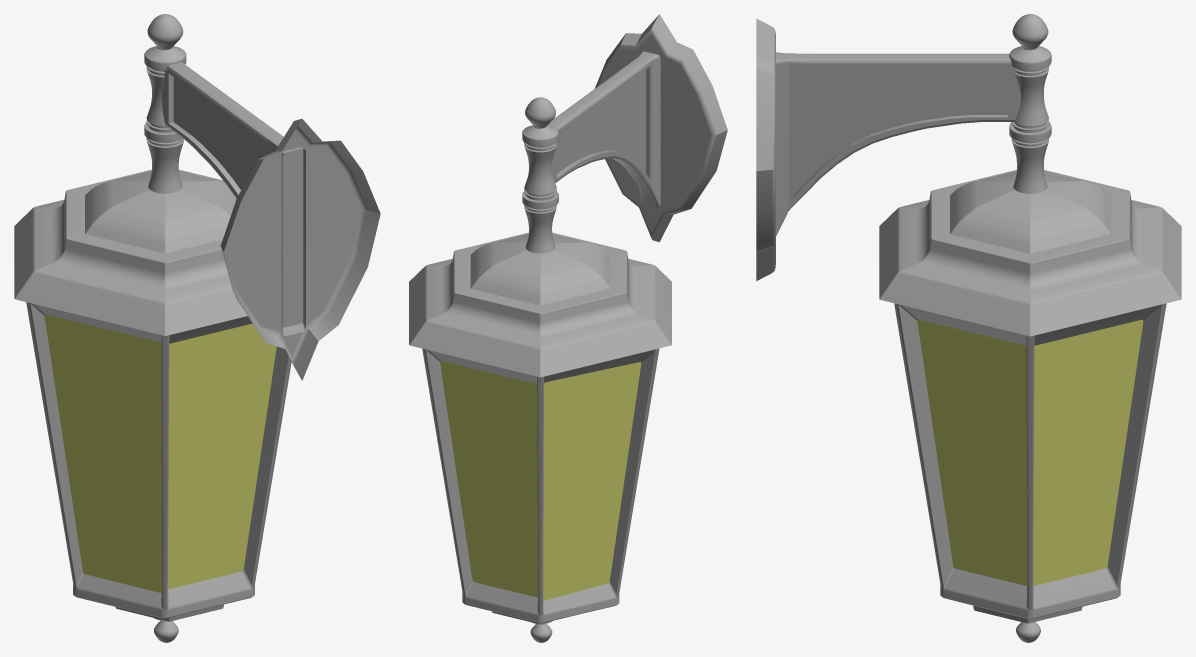
File: SM_Lapm3.fbx
The picture shows the model from 3 angles, left to right: view 1: azimuth 30°, elevation 25°; view 2: azimuth 150°, elevation 25°; view 3: azimuth 270°, elevation 25°; orthographic projection. The views are drawn at different scales.
Visible parts, largest first — view 1: SM_Lamp3; view 2: SM_Lamp3; view 3: SM_Lamp3.
Boxes of the visible parts, x1,y1,x2,y2 form: SM_Lamp3: (14,14,380,642); SM_Lamp3: (409,14,727,642); SM_Lamp3: (756,14,1181,642).
Size of the model in its own units: 33.95 by 67.67 by 41.48.
